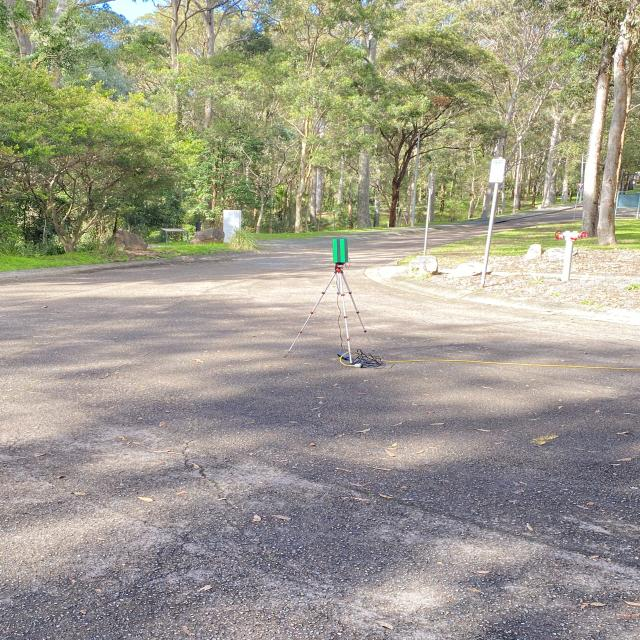matrix: (332, 238, 350, 262)
